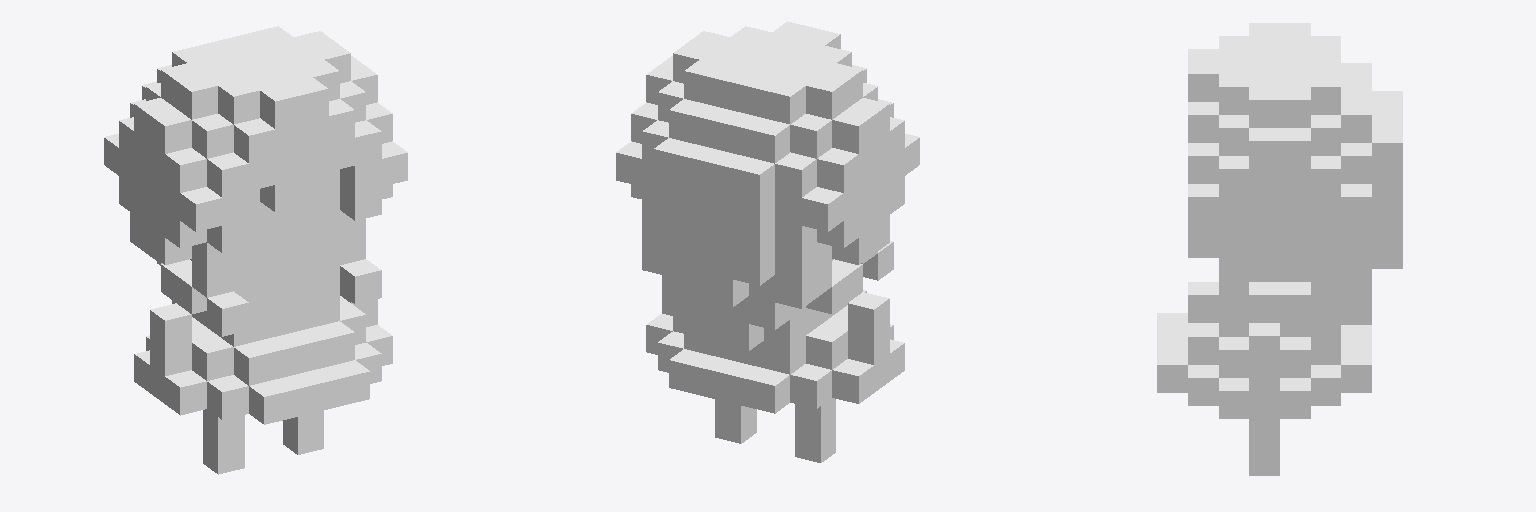
The model's file is lisa2.obj.
The picture shows the model from 3 angles: view 1: azimuth 30°, elevation 25°; view 2: azimuth 150°, elevation 25°; view 3: azimuth 270°, elevation 25°; orthographic projection.
Bounding box in the file's own units: 8 × 14 × 8.